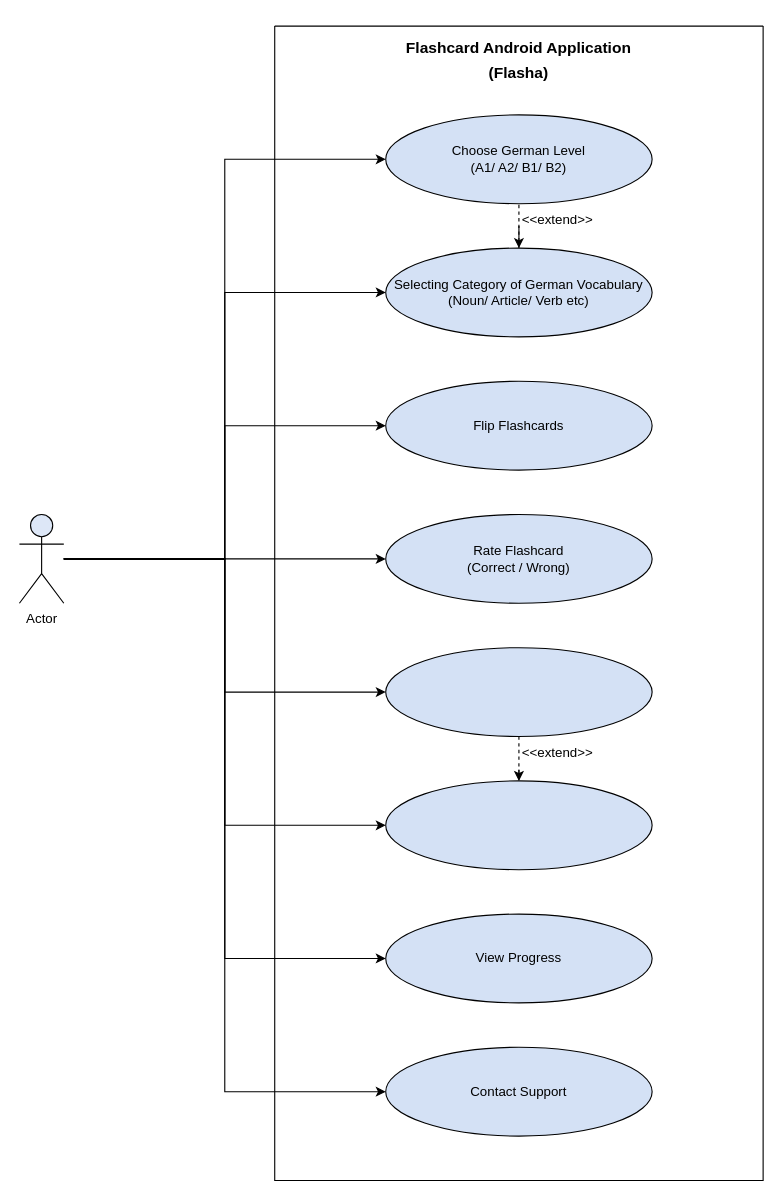
Image size: 783x1200. Some labels were removed from this diagram. The box of each missing label's shape, as (x1, y1, x2, y2) in pixels:
Save/ Unsave Flashcard: (385, 647, 652, 736)
View Saved Flashcard: (385, 780, 652, 870)
